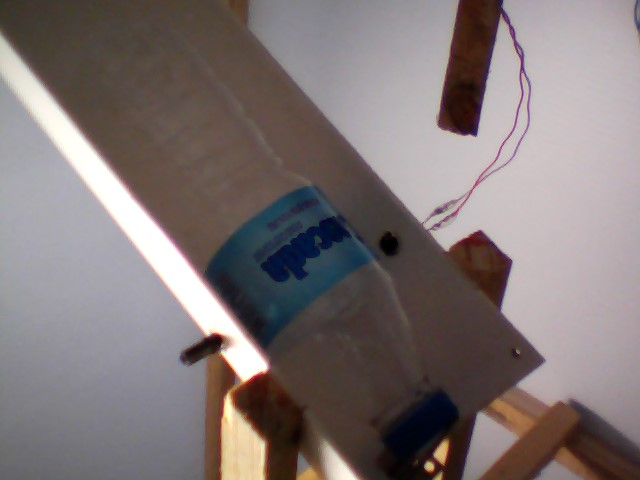plastico: (56, 16, 465, 467)
